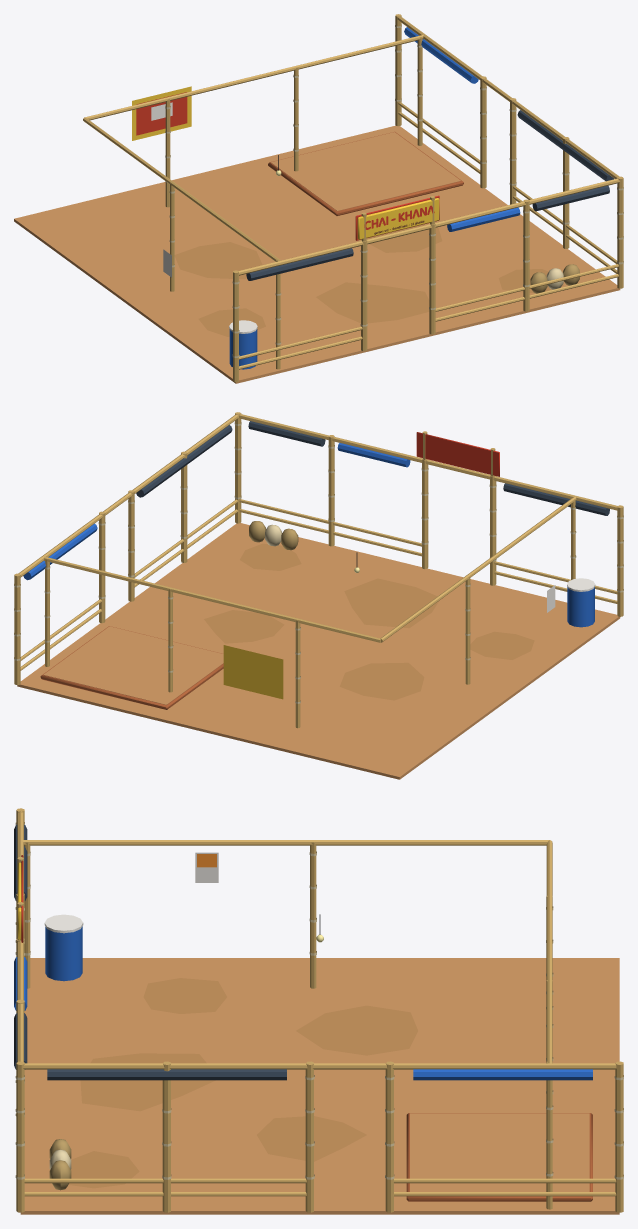
The model's file is growth_shack.glb.
The picture shows the model from 3 angles, top to bottom: view 1: azimuth 30°, elevation 25°; view 2: azimuth 150°, elevation 25°; view 3: azimuth 270°, elevation 25°; orthographic projection. The views are drawn at different scales.
Visible parts, largest first — view 1: growth_shack; view 2: growth_shack; view 3: growth_shack.
Part boxes in pixels (bbox=[...]): growth_shack: bbox=[14, 14, 623, 383]; growth_shack: bbox=[14, 412, 623, 779]; growth_shack: bbox=[14, 808, 623, 1214].
Size of the model in its own units: 9.17 by 3.11 by 9.17.
1 material, 1 textured.
